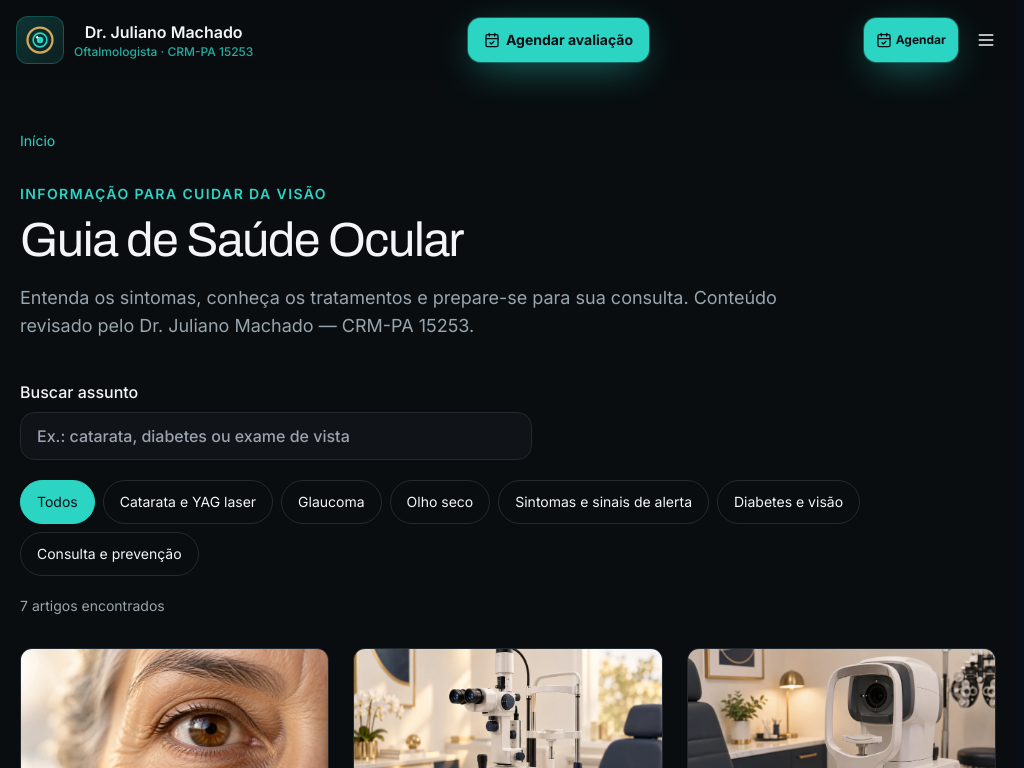
Test case: guia público do domínio principal › busca, filtra por tema e recupera uma busca vazia
The width and height of the screenshot is (1024, 768).
Click the button "Olho seco".
click(440, 502)  # box [390,480,490,524]
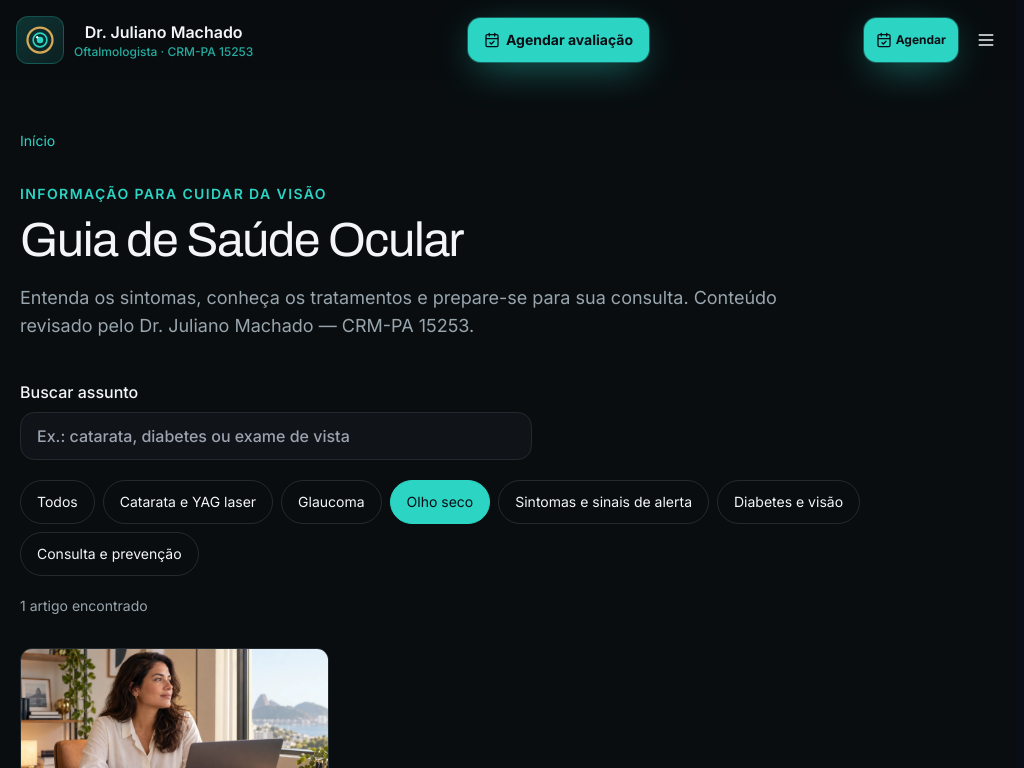
Type "inexistente" into the search field.
click(276, 436); type("inexistente")  # box [20,412,532,460]
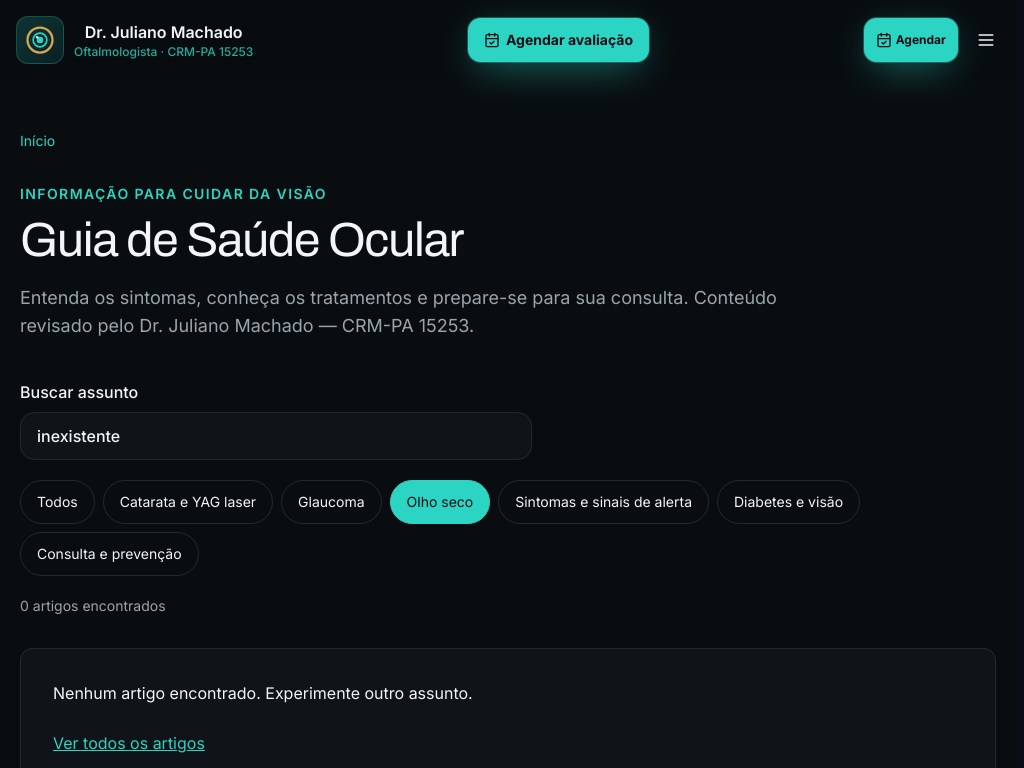
Expected: the text "Nenhum artigo encontrado. Experimente outro assunto." is shown, [53,683,473,703]
Click the button "Ver todos os artigos".
click(129, 743)  # box [53,721,205,765]
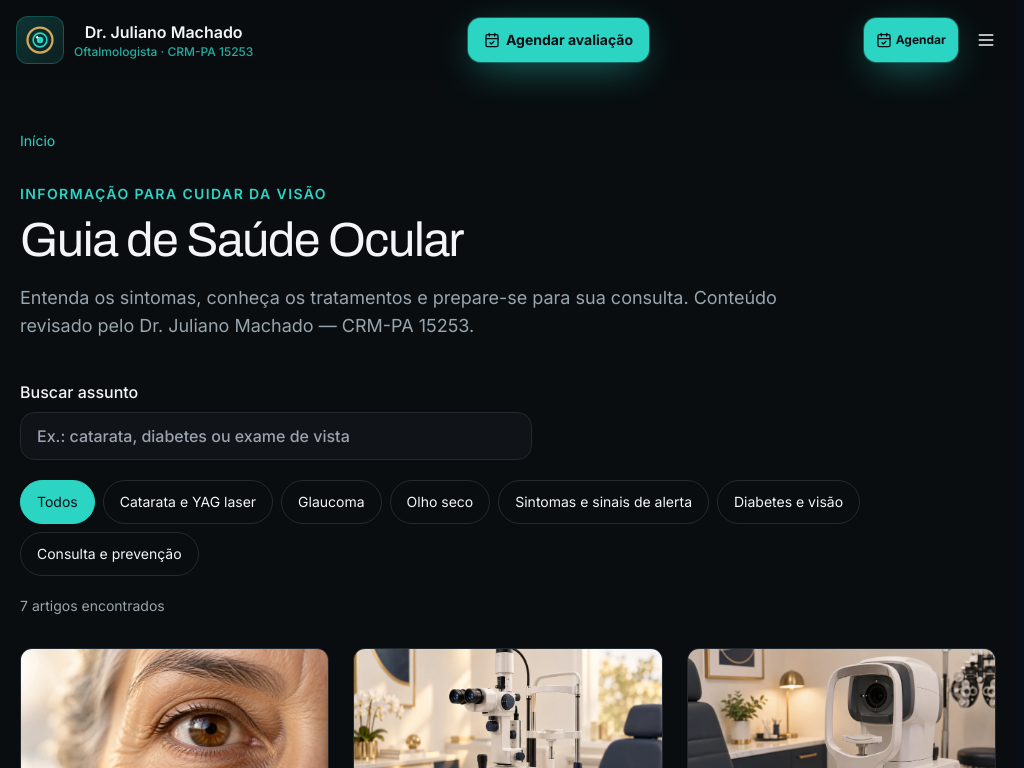
Expected: the number of links with class "guide-card" is 7
